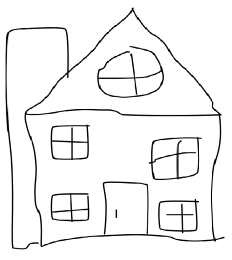big_house: (1, 5, 232, 260)
chimney: (3, 16, 78, 254)
closed_window: (90, 42, 168, 102), (146, 133, 202, 183), (154, 195, 206, 236), (46, 121, 93, 165), (47, 185, 92, 225)
door: (98, 175, 156, 242)
roof: (16, 4, 228, 121)
wall: (20, 104, 226, 246)
